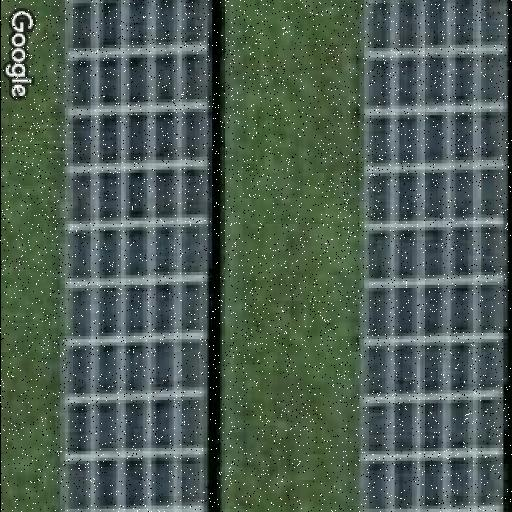solar-panel: (355, 0, 509, 512), (59, 0, 211, 512)
